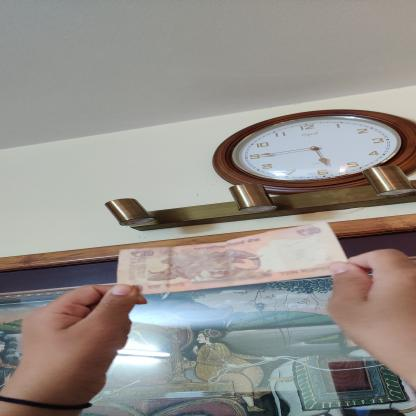Old10Back: (115, 221, 349, 294)
